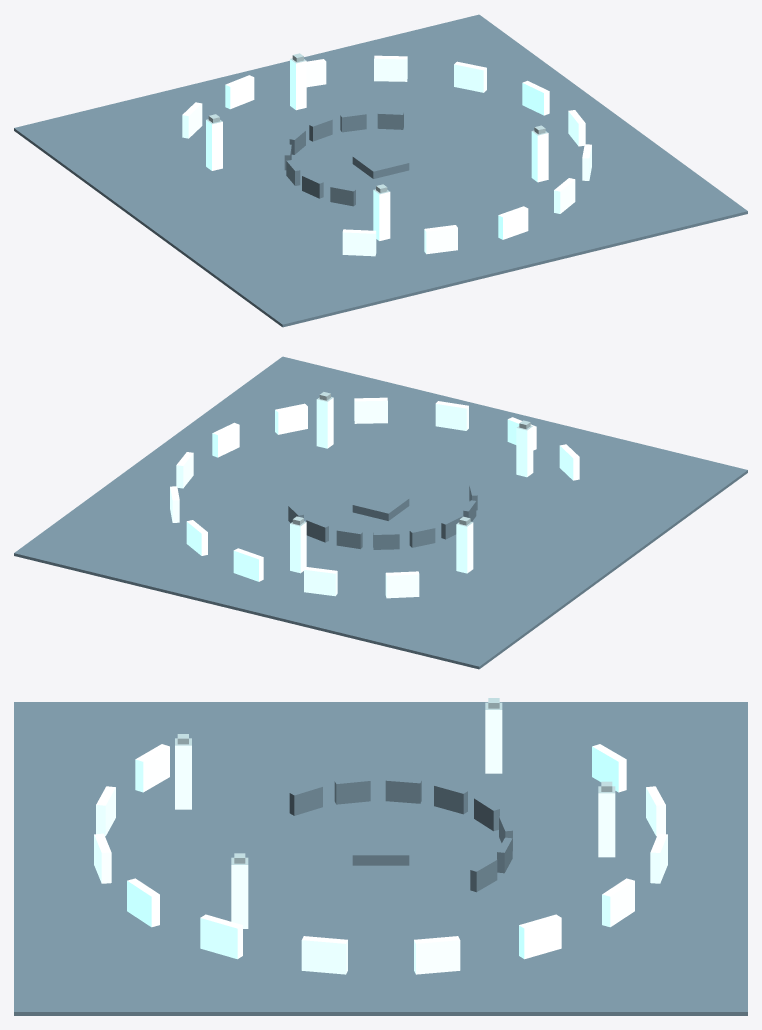
File: Arena_World6_Blockout.fbx
3 renders of one model, top to bottom at view 1: azimuth 30°, elevation 25°; view 2: azimuth 150°, elevation 25°; view 3: azimuth 270°, elevation 25°, orthographic. The views are drawn at different scales.
Visible parts, largest first — view 1: Arena_World6_Blockout; view 2: Arena_World6_Blockout; view 3: Arena_World6_Blockout.
Part boxes in pixels (left/top/right/bottom): Arena_World6_Blockout: left=14, top=14, right=747, bottom=327; Arena_World6_Blockout: left=14, top=356, right=747, bottom=669; Arena_World6_Blockout: left=14, top=698, right=747, bottom=1015.
Bounding box in the file's own units: 52 × 6 × 52.
